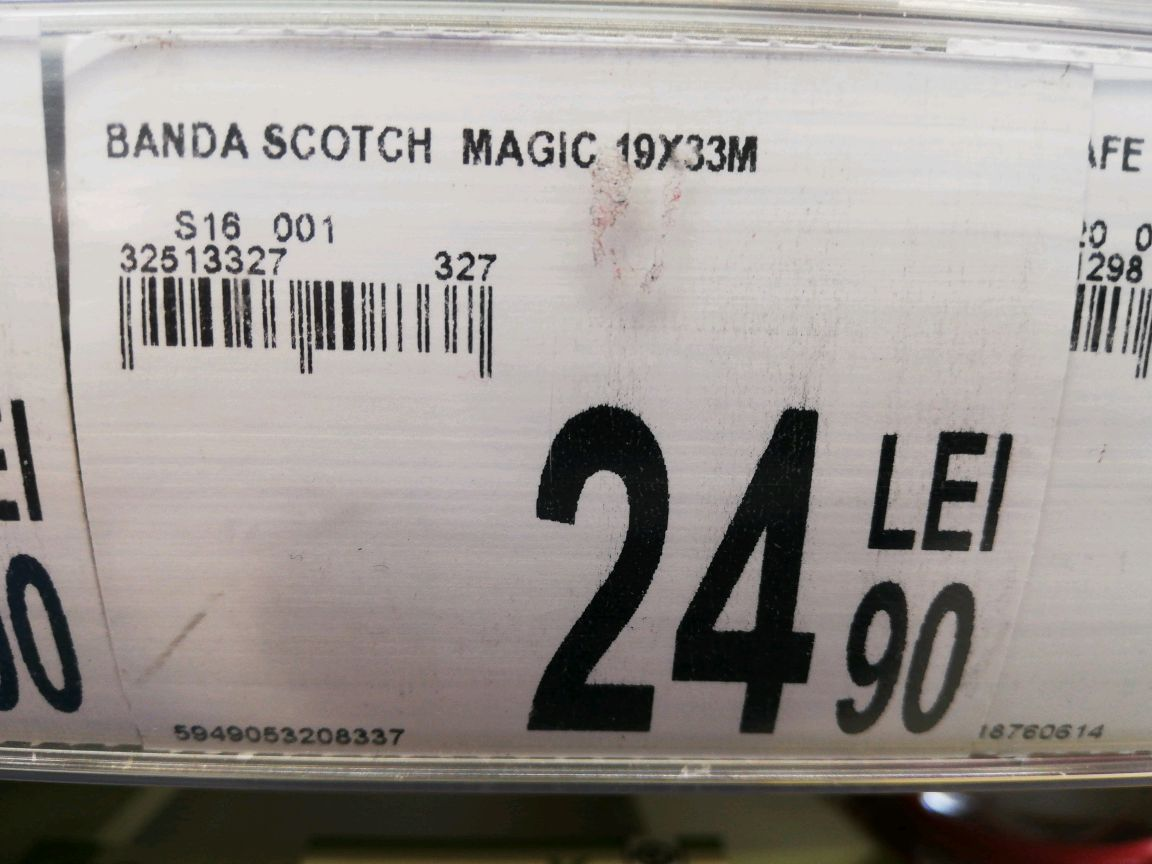price_bani: (826, 567, 988, 745)
price_lei: (507, 386, 831, 745)
price_tag: (49, 17, 1069, 760)
product_id: (158, 710, 418, 760)
product_name: (88, 105, 787, 189)
